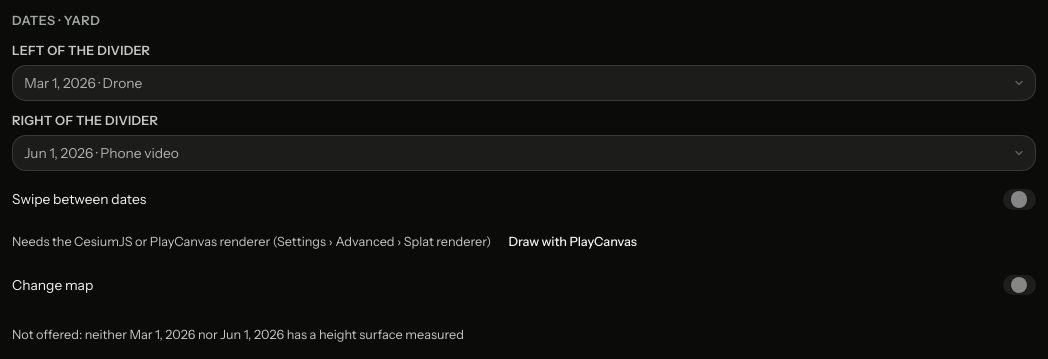
it: Compare › Dates › under Spark: disabled, says it needs CesiumJS or PlayCanvas, and switches in one click
Expected: the switch named "Swipe between dates" in the row of "Swipe between dates" is disabled, [1003, 189, 1036, 210]
Expected: the dropdown labelled "Left of the divider" is disabled, [12, 65, 1036, 100]
Click the button "Draw with PlayCanvas" at (573, 242), box [497, 228, 648, 256]
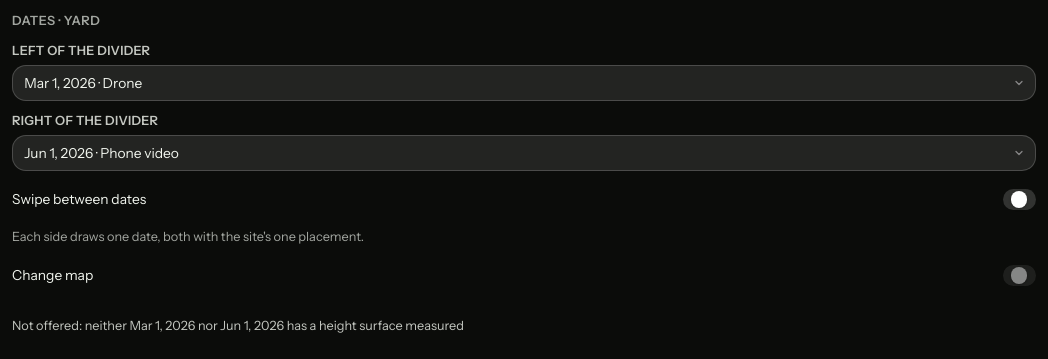
Now the element with test id "compare-dates-needs-renderer" is gone
Now the switch named "Swipe between dates" in the row of "Swipe between dates" is enabled, box [1003, 189, 1036, 210]
